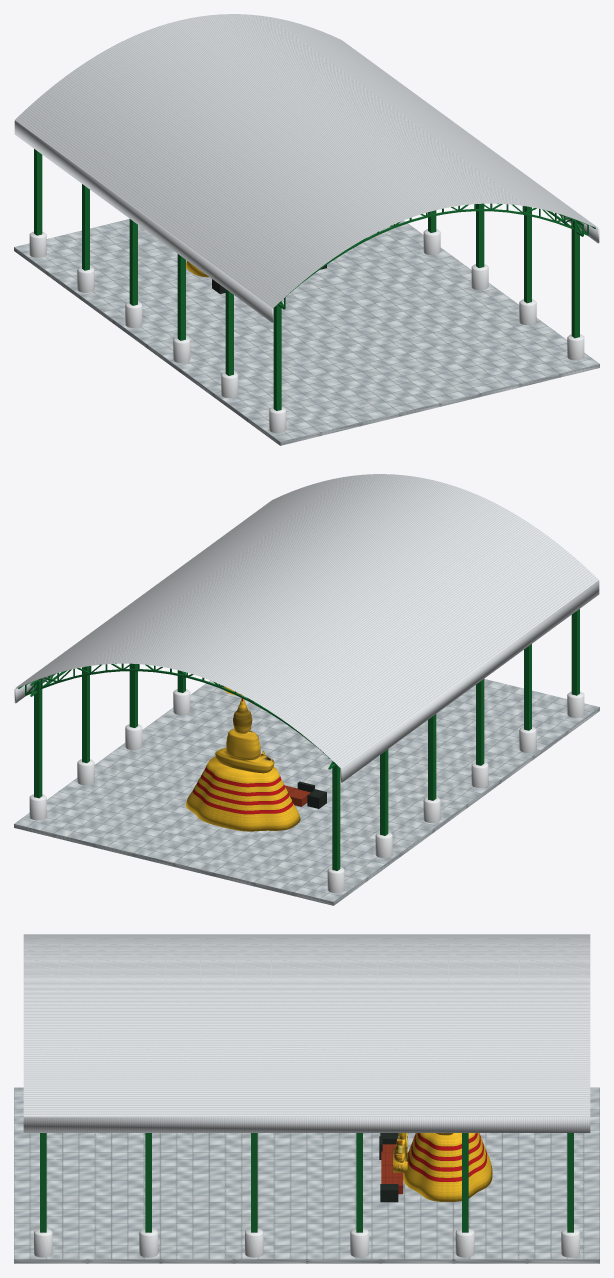
The model's file is sala_buddha.glb.
3 renders of one model, top to bottom at view 1: azimuth 30°, elevation 25°; view 2: azimuth 150°, elevation 25°; view 3: azimuth 270°, elevation 25°, orthographic. The views are drawn at different scales.
Visible parts, largest first — view 1: Pavilion_Curved_Roof, Pavilion_Tiled_Floor, Pavilion_Steel_Trusses, Pavilion_White_Plinths; view 2: Pavilion_Curved_Roof, Pavilion_Tiled_Floor, Pavilion_Steel_Trusses, Buddha_Tiered_Pedestal, Pavilion_White_Plinths, Main_Buddha_Statue, Buddha_Front_Altar; view 3: Pavilion_Curved_Roof, Pavilion_Tiled_Floor, Buddha_Tiered_Pedestal, Pavilion_Steel_Trusses, Pavilion_White_Plinths, Buddha_Front_Altar, Small_Front_Buddha_Statue.
Boxes of the visible parts, bbox=[...] form: Pavilion_Curved_Roof: bbox=[14, 14, 599, 322]; Pavilion_Tiled_Floor: bbox=[14, 219, 599, 445]; Pavilion_Steel_Trusses: bbox=[34, 149, 595, 410]; Pavilion_White_Plinths: bbox=[29, 229, 584, 433]; Pavilion_Curved_Roof: bbox=[14, 474, 599, 782]; Pavilion_Tiled_Floor: bbox=[14, 679, 599, 905]; Pavilion_Steel_Trusses: bbox=[18, 609, 579, 870]; Buddha_Tiered_Pedestal: bbox=[185, 756, 300, 831]; Pavilion_White_Plinths: bbox=[29, 689, 584, 893]; Main_Buddha_Statue: bbox=[215, 698, 274, 773]; Buddha_Front_Altar: bbox=[284, 781, 326, 808]; Pavilion_Curved_Roof: bbox=[23, 934, 590, 1132]; Pavilion_Tiled_Floor: bbox=[14, 1087, 599, 1263]; Buddha_Tiered_Pedestal: bbox=[403, 1133, 492, 1201]; Pavilion_Steel_Trusses: bbox=[40, 1133, 573, 1232]; Pavilion_White_Plinths: bbox=[34, 1228, 579, 1257]; Buddha_Front_Altar: bbox=[379, 1133, 403, 1202]; Small_Front_Buddha_Statue: bbox=[393, 1133, 407, 1172].
Size of the model in its own units: 10.64 by 6.04 by 15.
8 materials, 8 textured.
